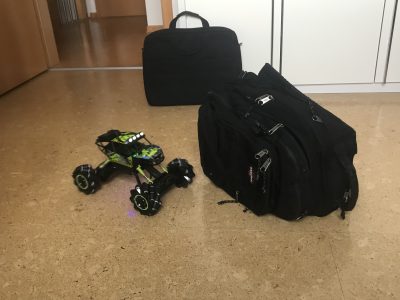remote control car: (70, 125, 195, 218)
